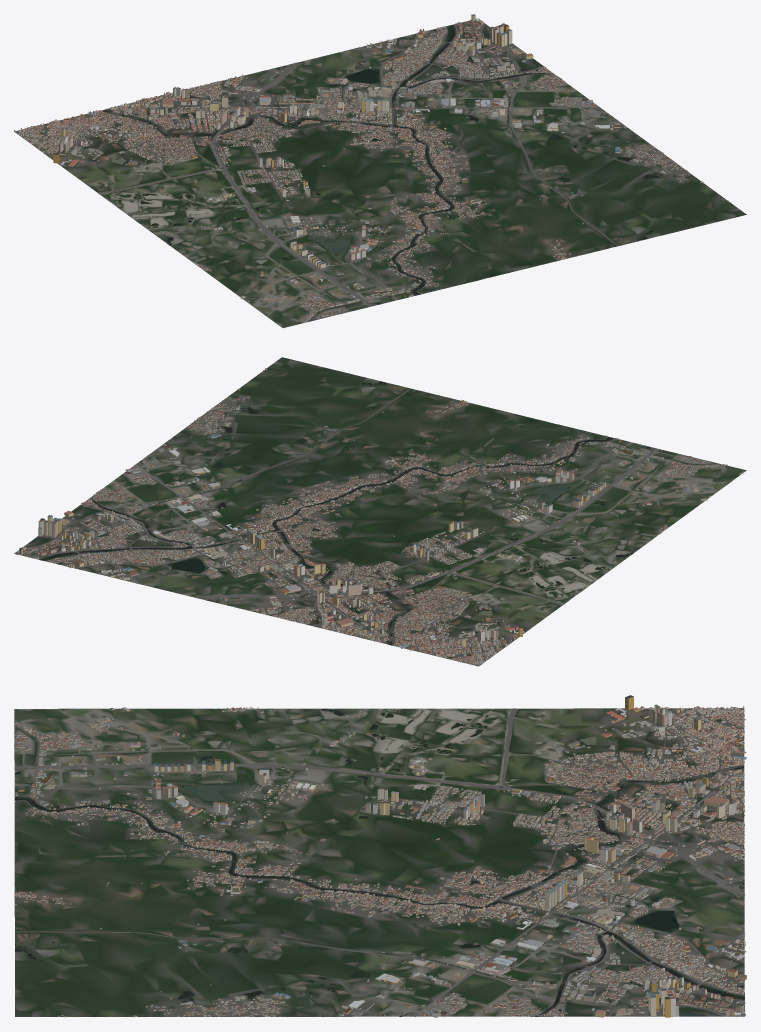
3 views of the same model, one above another, from view 1: azimuth 30°, elevation 25°; view 2: azimuth 150°, elevation 25°; view 3: azimuth 270°, elevation 25° (orthographic). The views are drawn at different scales.
Visible parts, largest first — view 1: ground, buildings, roads, water; view 2: ground, buildings, roads, water; view 3: ground, buildings, roads, water.
Boxes of the visible parts, x1,y1,x2,y2 form: ground: [15, 19, 746, 327]; buildings: [14, 14, 731, 323]; roads: [15, 18, 618, 322]; water: [46, 25, 662, 304]; ground: [14, 357, 746, 666]; buildings: [17, 368, 727, 666]; roads: [14, 388, 709, 666]; water: [28, 381, 650, 657]; ground: [14, 708, 744, 1016]; buildings: [14, 695, 746, 1017]; roads: [14, 708, 745, 1016]; water: [14, 708, 744, 1016].
Bounding box in the file's own units: 5653 × 166 × 5632.
